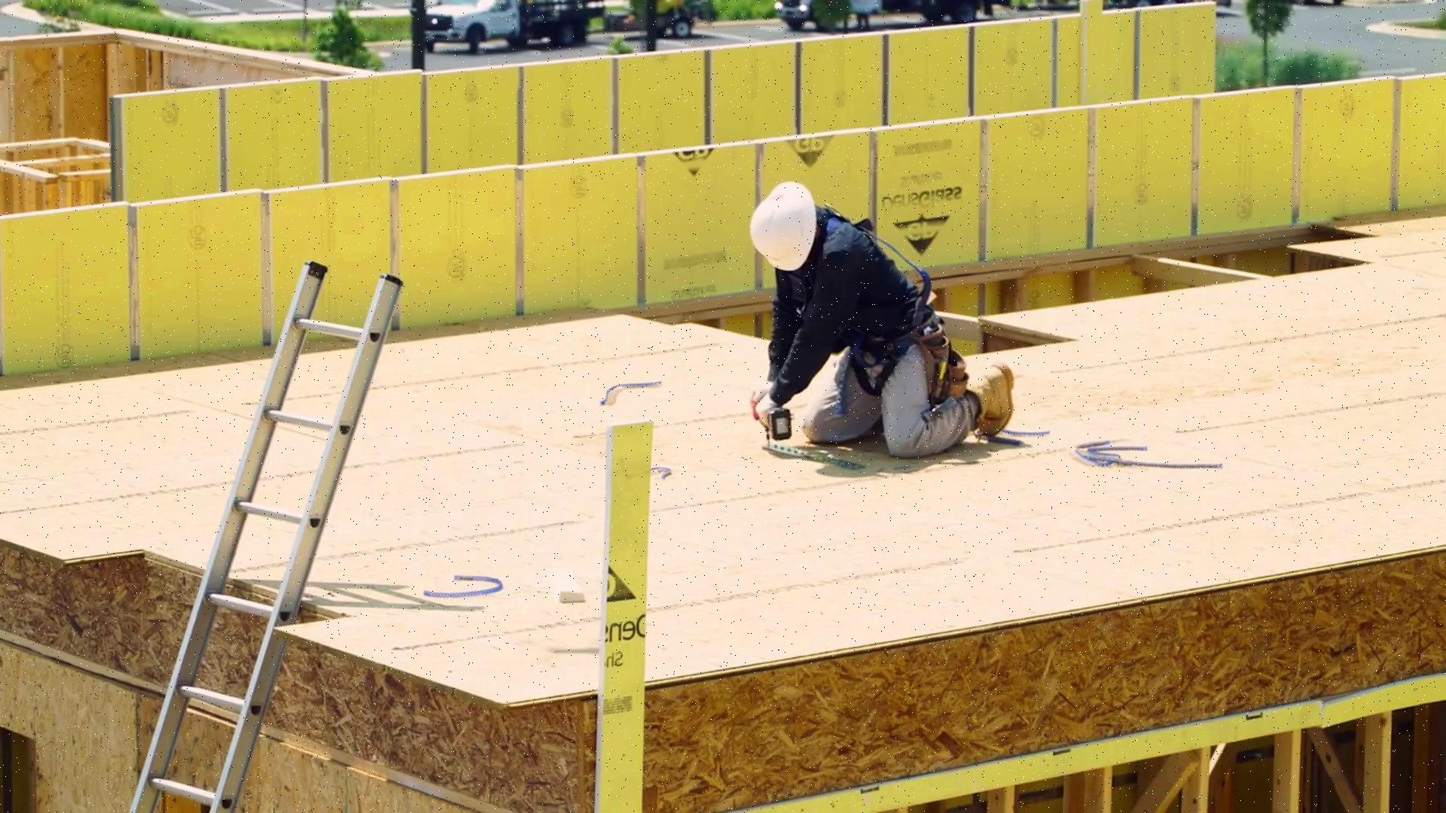Hard_hat: (739, 175, 823, 286)
